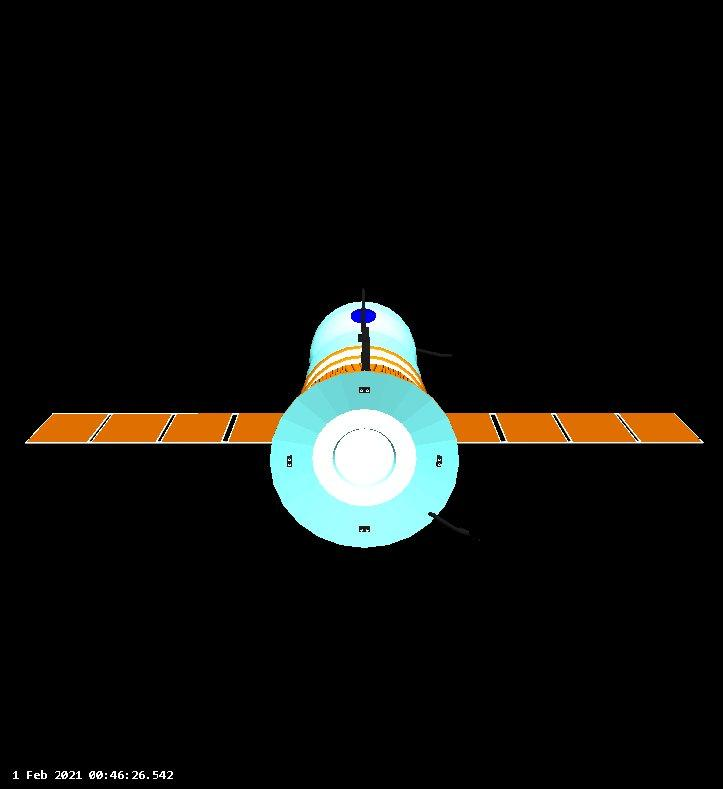body: (270, 299, 459, 547)
solar: (21, 411, 293, 449), (445, 410, 707, 444)
thruster: (365, 388, 370, 393), (287, 458, 292, 462), (437, 458, 442, 462), (437, 463, 442, 467), (360, 528, 364, 533), (365, 528, 369, 533), (287, 464, 292, 467), (360, 389, 364, 392)
